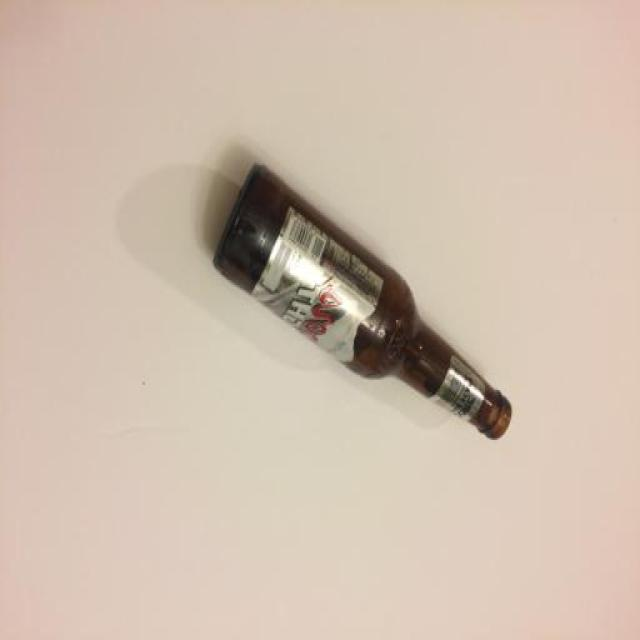glass: (212, 163, 511, 440)
